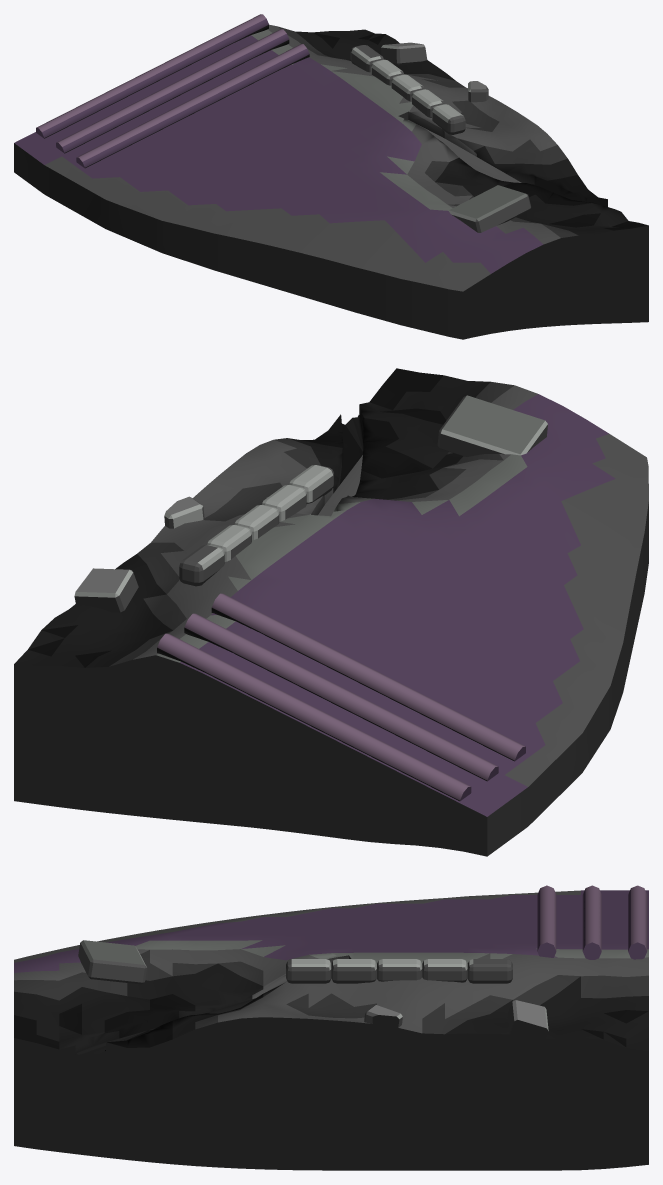
The model's file is camanis_boss_125.glb.
3 renders of one model, top to bottom at view 1: azimuth 30°, elevation 25°; view 2: azimuth 150°, elevation 25°; view 3: azimuth 270°, elevation 25°, orthographic. The views are drawn at different scales.
Parts seen in each view (by area): view 1: camanis_boss_125; view 2: camanis_boss_125; view 3: camanis_boss_125.
Boxes of the visible parts, box(x1,y1,x2,y2) form: camanis_boss_125: box(14, 14, 648, 339); camanis_boss_125: box(14, 368, 648, 856); camanis_boss_125: box(14, 885, 648, 1170).
Bounding box in the file's own units: 20 × 8.35 × 28.
